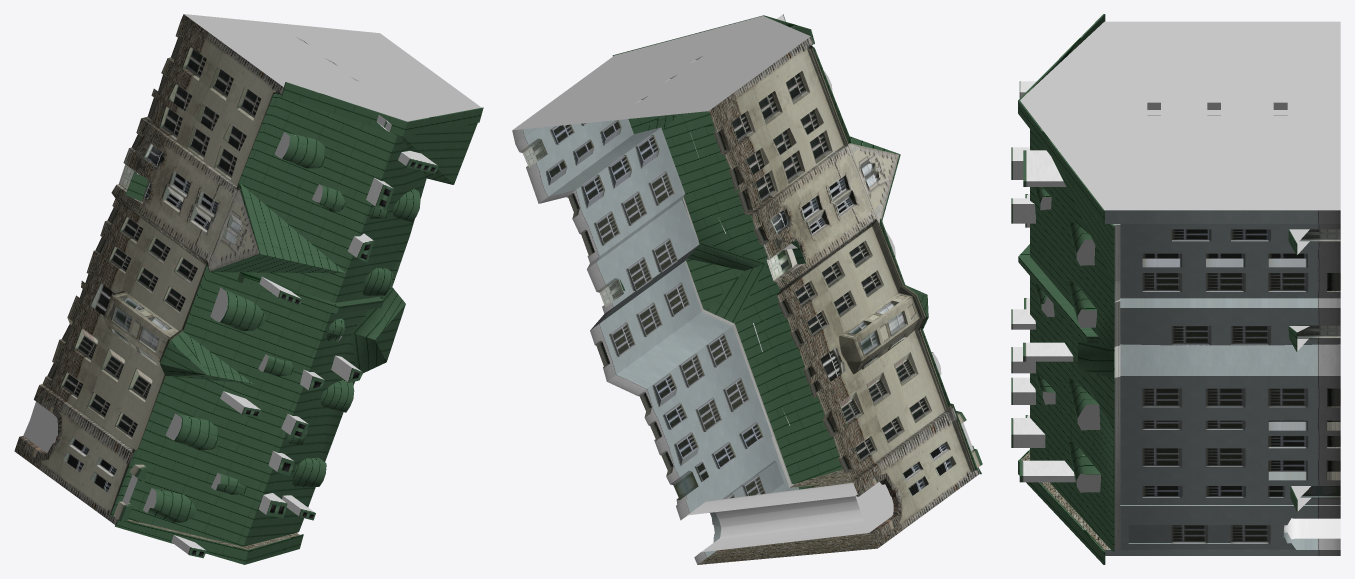
The model's file is Toompuiestee_30_1-origo.obj.
The picture shows the model from 3 angles, left to right: view 1: azimuth 30°, elevation 25°; view 2: azimuth 150°, elevation 25°; view 3: azimuth 270°, elevation 25°; orthographic projection. The views are drawn at different scales.
Parts seen in each view (by area): view 1: Toompuiestee_30_1; view 2: Toompuiestee_30_1; view 3: Toompuiestee_30_1.
Boxes of the visible parts, <box> form: Toompuiestee_30_1: <box>14,14,483,564</box>; Toompuiestee_30_1: <box>512,14,982,564</box>; Toompuiestee_30_1: <box>1011,14,1340,564</box>.
Size of the model in its own units: 29 by 35 by 19.23.
